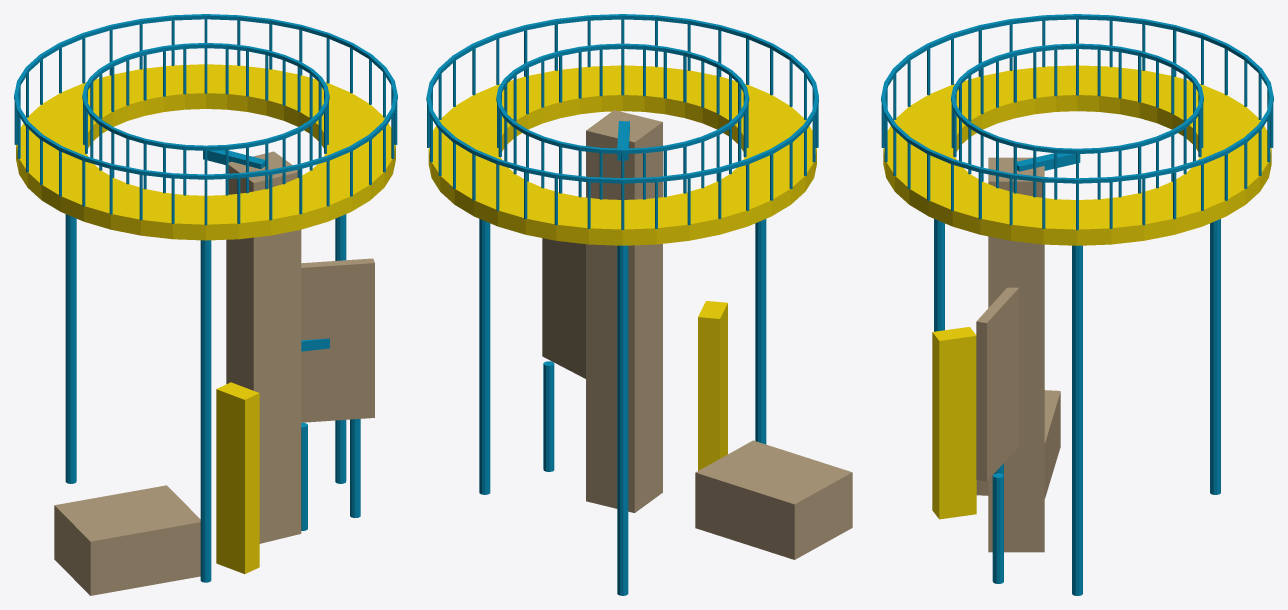
Rendered from folie_tag_096.glb.
3 renders of one model, left to right at view 1: azimuth 30°, elevation 25°; view 2: azimuth 150°, elevation 25°; view 3: azimuth 270°, elevation 25°, orthographic. The views are drawn at different scales.
Parts seen in each view (by area): view 1: folie_tag_096_00_ring, folie_tag_096_line, folie_tag_096_core, folie_tag_096_02_block, folie_tag_096_01_panel, folie_tag_096_03_fin; view 2: folie_tag_096_00_ring, folie_tag_096_line, folie_tag_096_core, folie_tag_096_02_block, folie_tag_096_01_panel, folie_tag_096_03_fin; view 3: folie_tag_096_00_ring, folie_tag_096_line, folie_tag_096_core, folie_tag_096_03_fin, folie_tag_096_01_panel, folie_tag_096_02_block.
Part boxes in pixels (x1,y1,x2,y2): folie_tag_096_00_ring: [16, 64, 395, 240]; folie_tag_096_line: [14, 14, 397, 582]; folie_tag_096_core: [226, 151, 301, 543]; folie_tag_096_02_block: [54, 485, 200, 595]; folie_tag_096_01_panel: [301, 258, 374, 422]; folie_tag_096_03_fin: [216, 382, 259, 573]; folie_tag_096_00_ring: [428, 65, 816, 245]; folie_tag_096_line: [426, 14, 818, 595]; folie_tag_096_core: [586, 110, 662, 512]; folie_tag_096_02_block: [695, 440, 852, 559]; folie_tag_096_01_panel: [542, 238, 585, 378]; folie_tag_096_03_fin: [698, 301, 727, 470]; folie_tag_096_00_ring: [883, 65, 1271, 245]; folie_tag_096_line: [881, 14, 1273, 595]; folie_tag_096_core: [988, 157, 1044, 552]; folie_tag_096_03_fin: [932, 327, 976, 519]; folie_tag_096_01_panel: [976, 287, 1019, 481]; folie_tag_096_02_block: [976, 390, 1060, 498].
Size of the model in its own units: 7.77 by 9.27 by 7.68.
